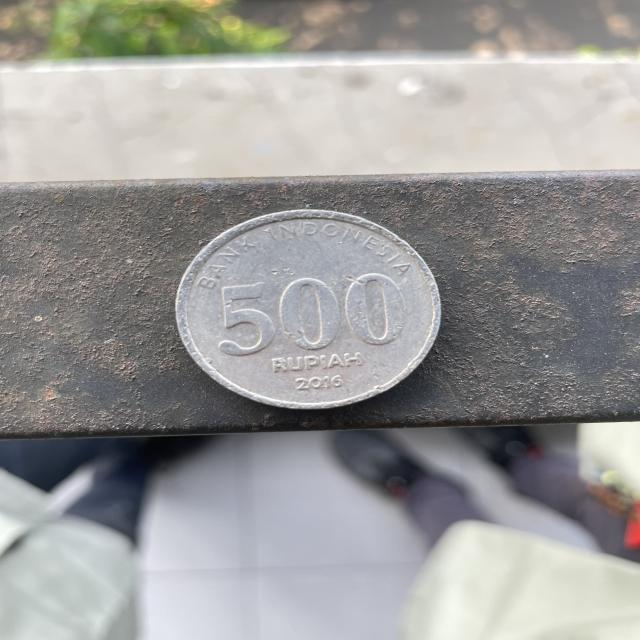500-silver: (167, 203, 456, 417)
